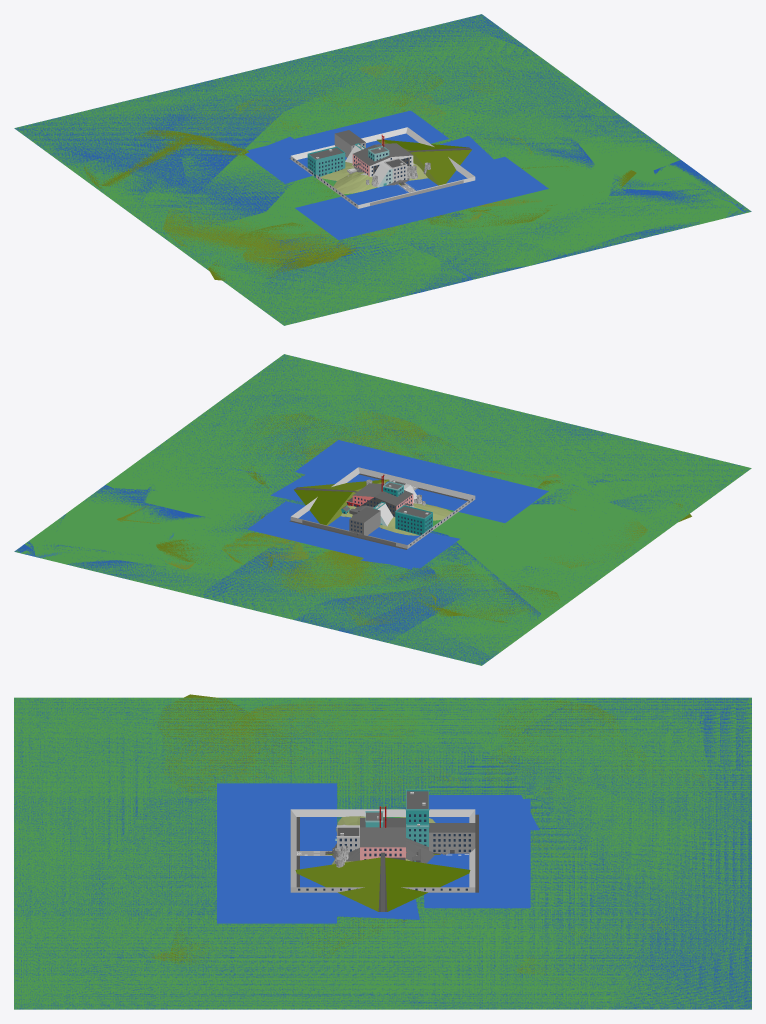
The model's file is ukraine.glb.
The picture shows the model from 3 angles, top to bottom: view 1: azimuth 30°, elevation 25°; view 2: azimuth 150°, elevation 25°; view 3: azimuth 270°, elevation 25°; orthographic projection. The views are drawn at different scales.
Parts seen in each view (by area): view 1: ukraine_000_lod0, ukraine_128_lod0, ukraine_130_lod0, ukraine_151_lod0, ukraine_133_lod0, ukraine_134_lod0, ukraine_145_lod0, ukraine_153_lod0, ukraine_097_lod0_s1v0, ukraine_146_lod0, ukraine_155_lod0, ukraine_139_lod0 (+27 smaller); view 2: ukraine_128_lod0, ukraine_129_lod0, ukraine_000_lod0, ukraine_148_lod0, ukraine_130_lod0, ukraine_147_lod0, ukraine_097_lod0_s1v0, ukraine_140_lod0, ukraine_133_lod0, ukraine_142_lod0, ukraine_106_lod0_forest, ukraine_146_lod0 (+23 smaller); view 3: ukraine_000_lod0, ukraine_128_lod0, ukraine_134_lod0, ukraine_129_lod0, ukraine_135_lod0, ukraine_130_lod0, ukraine_097_lod0_s1v0, ukraine_131_lod0, ukraine_132_lod0, ukraine_095_lod0_s1v0, ukraine_137_lod0, ukraine_150_lod0 (+29 smaller).
Boxes of the visible parts, x1,y1,x2,y2 form: ukraine_000_lod0: (14,14,750,325); ukraine_128_lod0: (15,14,749,324); ukraine_130_lod0: (16,16,744,324); ukraine_151_lod0: (53,18,731,324); ukraine_133_lod0: (16,16,744,324); ukraine_134_lod0: (24,19,747,322); ukraine_145_lod0: (27,20,748,320); ukraine_153_lod0: (26,15,734,296); ukraine_097_lod0_s1v0: (295,156,548,239); ukraine_146_lod0: (136,17,747,320); ukraine_155_lod0: (21,91,747,319); ukraine_139_lod0: (23,19,745,320); ukraine_128_lod0: (15,355,749,665); ukraine_129_lod0: (18,355,751,664); ukraine_000_lod0: (14,354,750,665); ukraine_148_lod0: (143,364,722,659); ukraine_130_lod0: (17,356,749,664); ukraine_147_lod0: (25,365,645,641); ukraine_097_lod0_s1v0: (295,440,548,522); ukraine_140_lod0: (18,360,747,662); ukraine_133_lod0: (79,357,730,662); ukraine_142_lod0: (16,369,708,655); ukraine_106_lod0_forest: (156,450,691,622); ukraine_146_lod0: (111,376,734,651); ukraine_000_lod0: (14,697,751,1009); ukraine_128_lod0: (14,697,751,1009); ukraine_134_lod0: (15,698,751,1009); ukraine_129_lod0: (14,697,751,1009); ukraine_135_lod0: (14,698,751,1008); ukraine_130_lod0: (14,697,751,1009); ukraine_097_lod0_s1v0: (217,783,336,923); ukraine_131_lod0: (14,697,751,1009); ukraine_132_lod0: (14,697,751,1009); ukraine_095_lod0_s1v0: (340,799,530,908); ukraine_137_lod0: (18,698,751,1009); ukraine_150_lod0: (14,698,751,1006).
Size of what is drawn, in the model's own units: 4139 by 288 by 4096.
